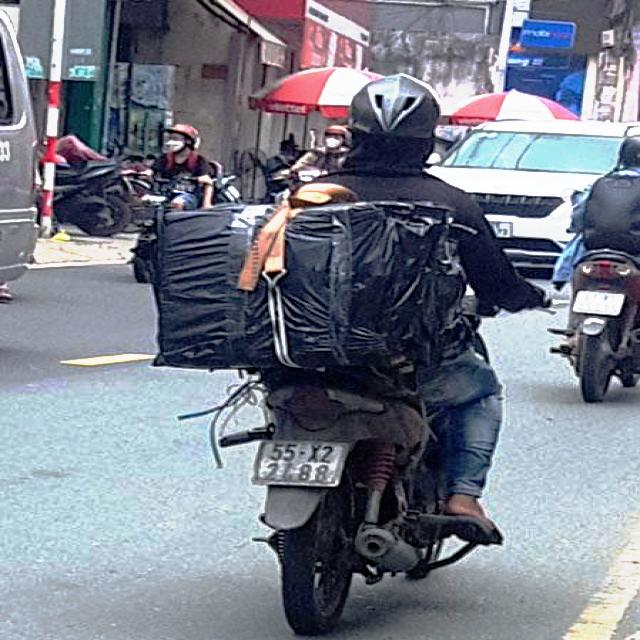license_plate: (249, 441, 347, 489)
